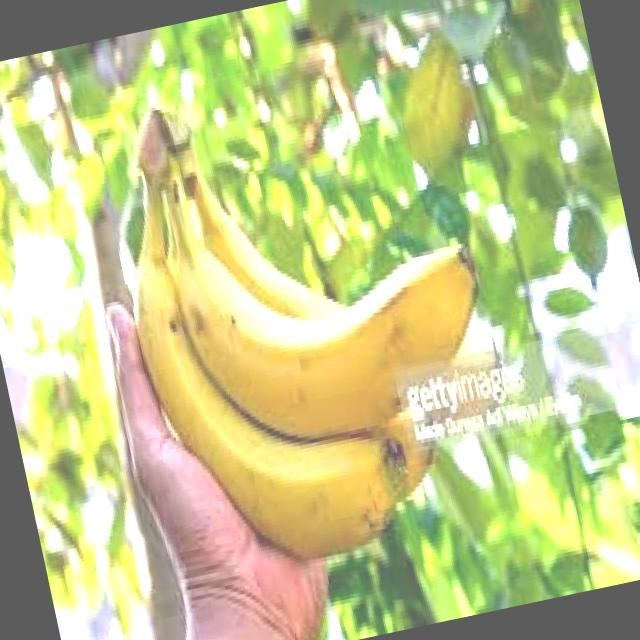Banana: (90, 43, 528, 586)
